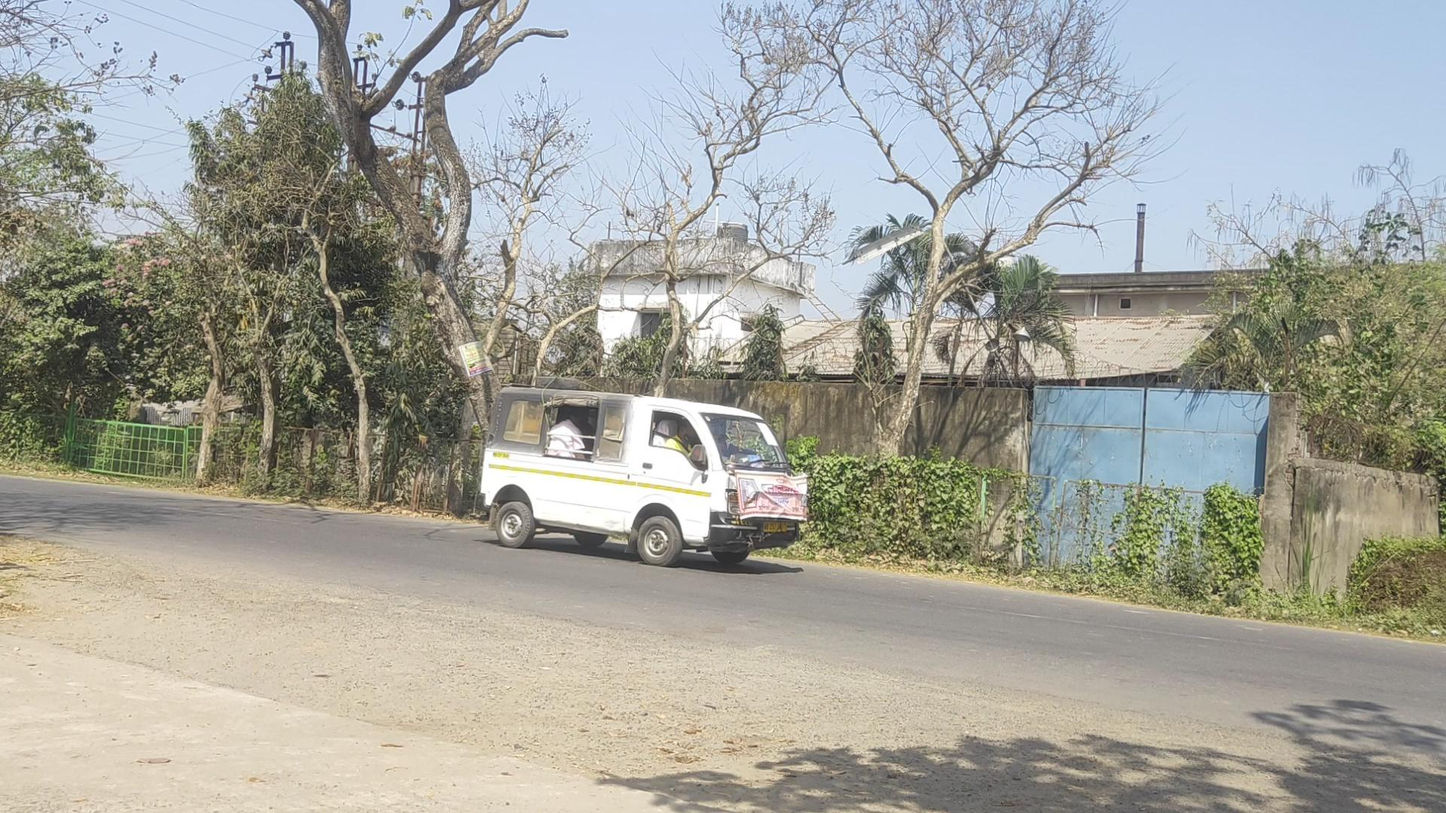van: (470, 376, 809, 568)
